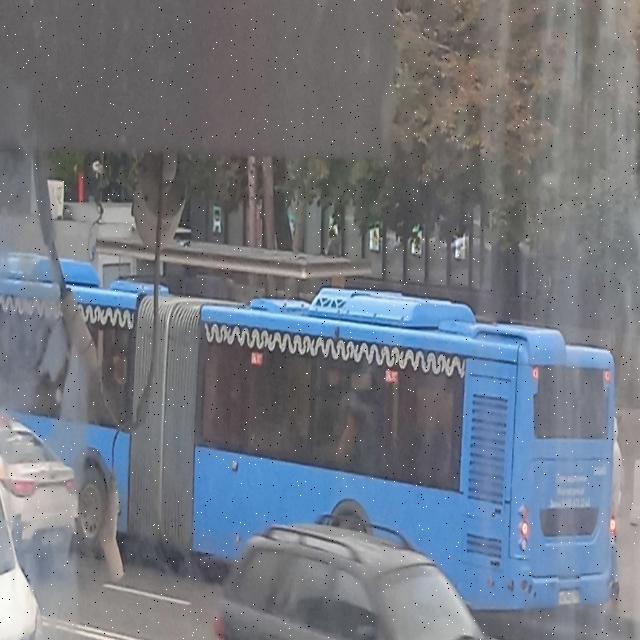bus: (5, 279, 615, 640)
